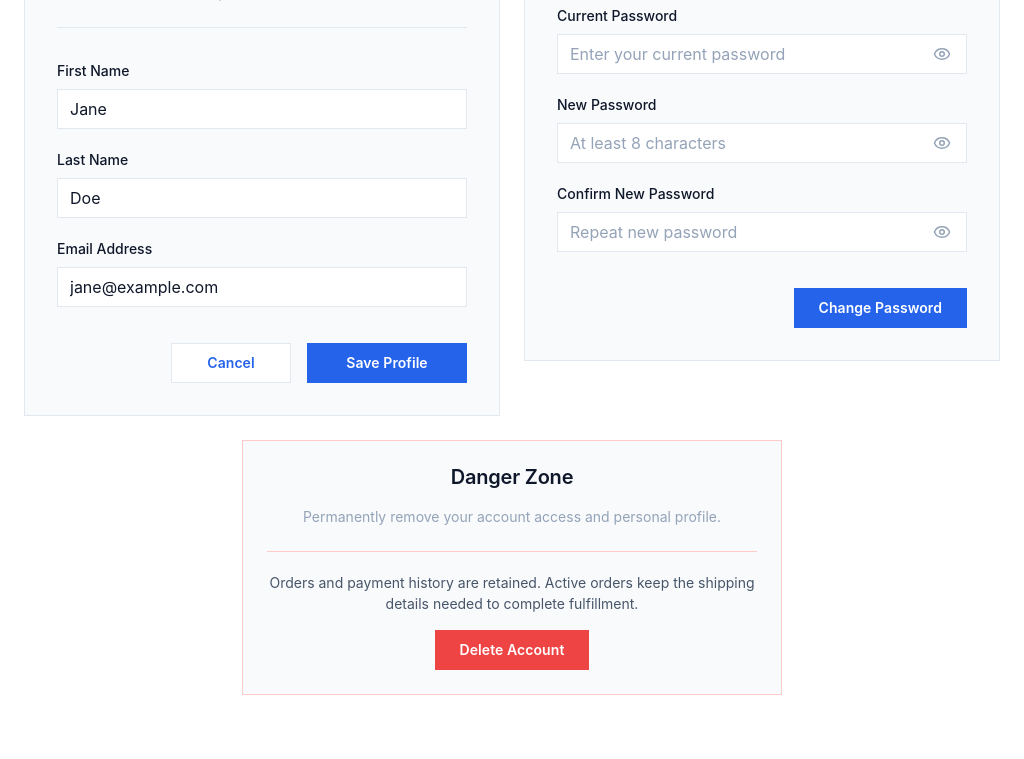
Test: ProfilePage › shows the Danger Zone at the bottom of the profile and opens a confirmation dialog
(page scrolled)
Expected: the heading "Danger Zone" is shown, [451,464,573,490]
What coordinates should you click on to do the following:
click the button "Delete Account"
I would click on:
 (512, 650)
Its box is [435,630,589,670].
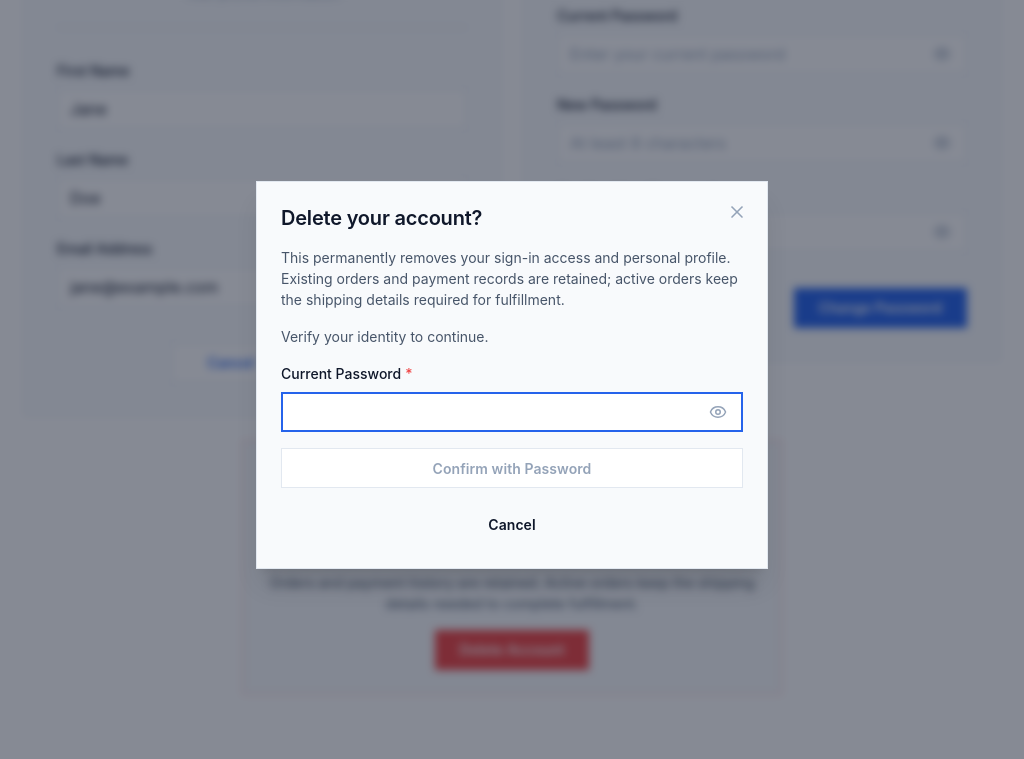
Result: the heading "Delete your account?" is shown at [281,206,482,230]
